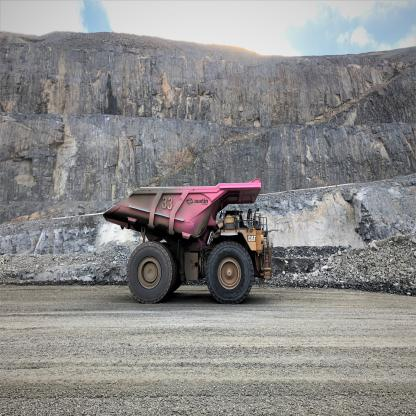dump_truck: (107, 169, 275, 310)
